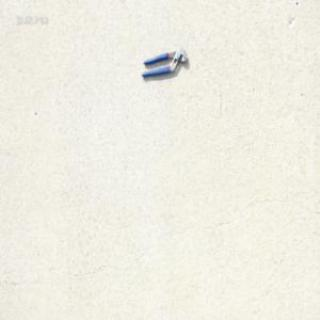Pliertrack_idkeyframe: (140, 45, 187, 78)
